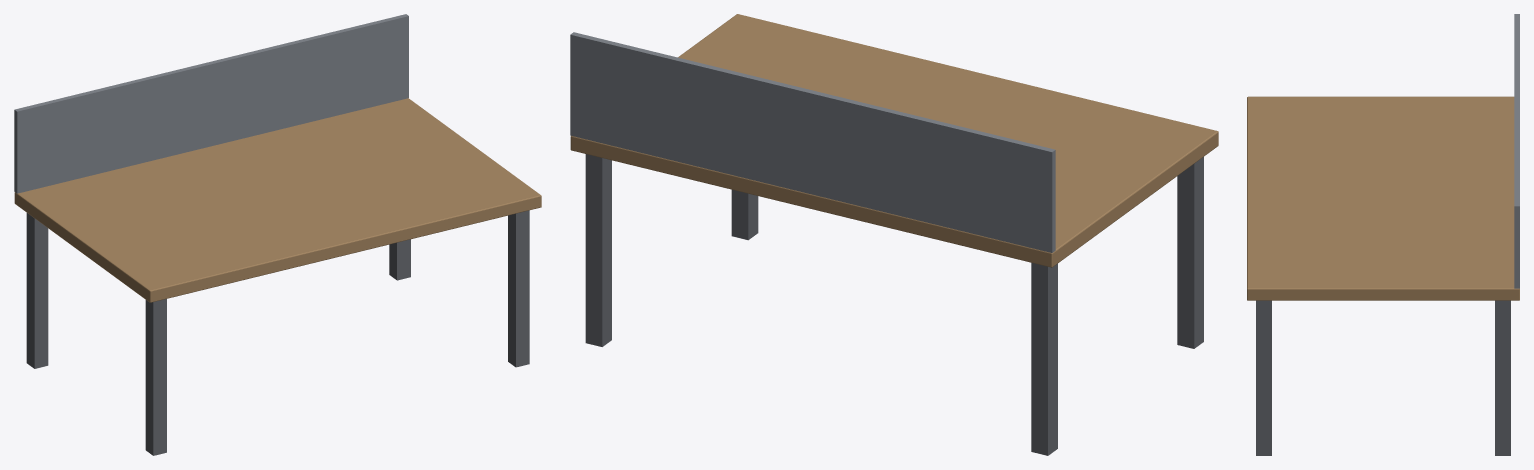
Rendered from Prop_Workbench_Table.fbx.
3 renders of one model, left to right at view 1: azimuth 30°, elevation 25°; view 2: azimuth 150°, elevation 25°; view 3: azimuth 270°, elevation 25°, orthographic. The views are drawn at different scales.
Visible parts, largest first — view 1: Workbench_Tabletop, Workbench_Pegboard_Backwall, Workbench_Steel_Leg_3, Workbench_Steel_Leg_1, Workbench_Steel_Leg_2, Workbench_Steel_Leg_4; view 2: Workbench_Pegboard_Backwall, Workbench_Tabletop, Workbench_Steel_Leg_3, Workbench_Steel_Leg_4, Workbench_Steel_Leg_1, Workbench_Steel_Leg_2; view 3: Workbench_Tabletop, Workbench_Steel_Leg_2, Workbench_Steel_Leg_4, Workbench_Pegboard_Backwall.
Boxes of the visible parts, bbox=[...] form: Workbench_Tabletop: bbox=[14, 98, 541, 302]; Workbench_Pegboard_Backwall: bbox=[14, 14, 408, 193]; Workbench_Steel_Leg_3: bbox=[26, 213, 48, 368]; Workbench_Steel_Leg_1: bbox=[145, 299, 166, 455]; Workbench_Steel_Leg_2: bbox=[508, 210, 529, 367]; Workbench_Steel_Leg_4: bbox=[389, 239, 410, 280]; Workbench_Pegboard_Backwall: bbox=[570, 32, 1055, 252]; Workbench_Tabletop: bbox=[570, 14, 1218, 267]; Workbench_Steel_Leg_3: bbox=[1031, 263, 1057, 455]; Workbench_Steel_Leg_4: bbox=[585, 154, 611, 346]; Workbench_Steel_Leg_1: bbox=[1177, 157, 1203, 348]; Workbench_Steel_Leg_2: bbox=[731, 189, 758, 240]; Workbench_Tabletop: bbox=[1247, 96, 1519, 300]; Workbench_Steel_Leg_2: bbox=[1256, 300, 1271, 455]; Workbench_Steel_Leg_4: bbox=[1495, 300, 1510, 455]; Workbench_Pegboard_Backwall: bbox=[1514, 14, 1519, 288].
Bounding box in the file's own units: 40 × 24 × 24.6.
